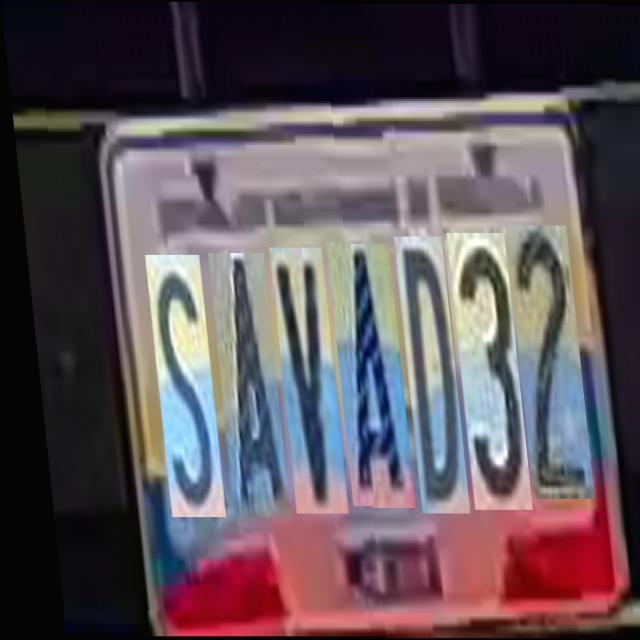2: (502, 224, 584, 497)
3: (441, 231, 521, 508)
A: (320, 242, 404, 506), (202, 253, 280, 517)
D: (389, 234, 459, 512)
S: (140, 255, 214, 517)
V: (264, 247, 338, 514)
